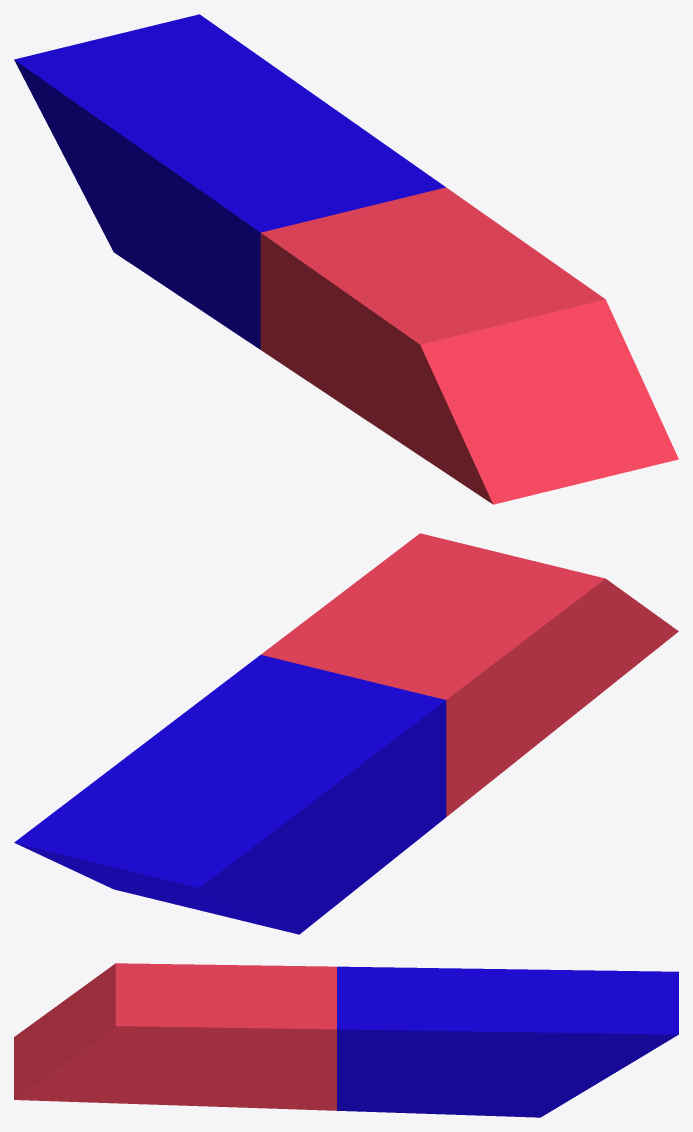
Rendered from 4. Penghapus tinta.fbx.
The picture shows the model from 3 angles, top to bottom: view 1: azimuth 30°, elevation 25°; view 2: azimuth 150°, elevation 25°; view 3: azimuth 270°, elevation 25°; orthographic projection. The views are drawn at different scales.
Visible parts, largest first — view 1: 4; view 2: 4; view 3: 4.
Boxes of the visible parts, x1,y1,x2,y2 form: 4: (14, 14, 678, 504); 4: (14, 533, 678, 934); 4: (14, 963, 678, 1117).
Bounding box in the file's own units: 75.86 × 51.52 × 339.
